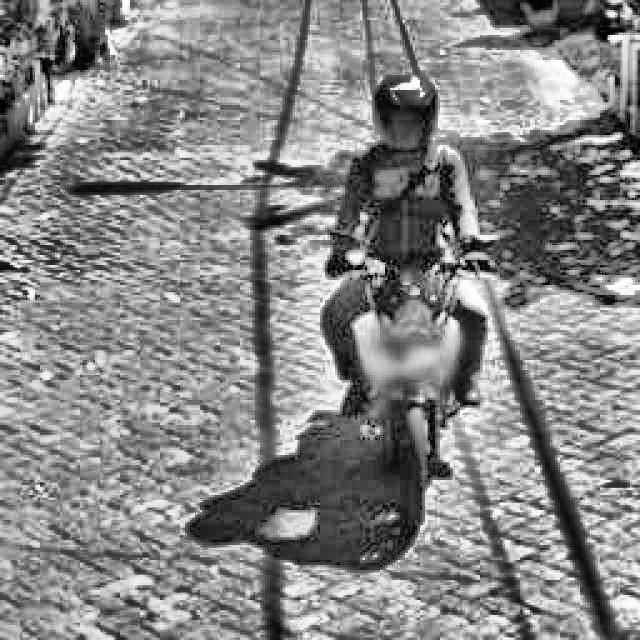motorcycle: (306, 203, 526, 528)
